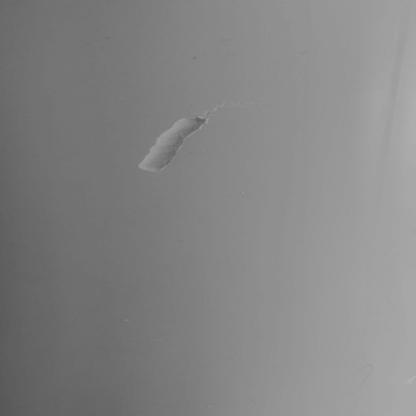sunshang: (140, 112, 212, 172)
